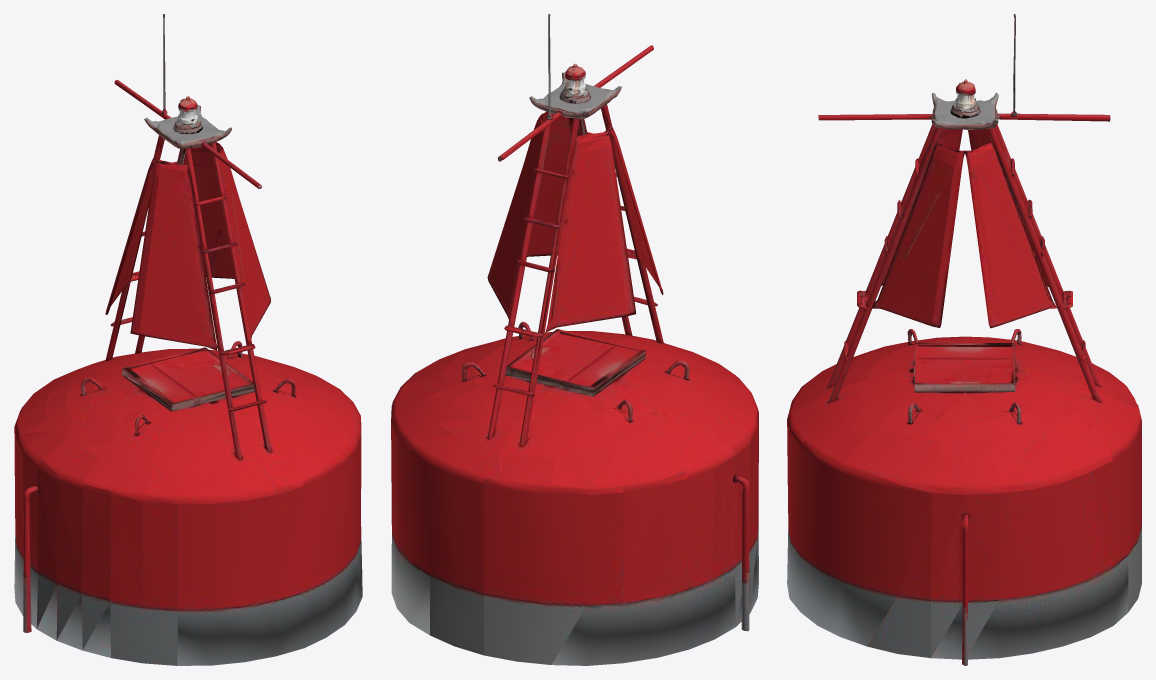
File: buoy2.glb
The picture shows the model from 3 angles, left to right: view 1: azimuth 30°, elevation 25°; view 2: azimuth 150°, elevation 25°; view 3: azimuth 270°, elevation 25°; orthographic projection. The views are drawn at different scales.
Visible parts, largest first — view 1: mesh_node; view 2: mesh_node; view 3: mesh_node.
Boxes of the visible parts, box(x1,y1,x2,y2) form: mesh_node: box(14, 14, 362, 665); mesh_node: box(391, 14, 758, 665); mesh_node: box(787, 14, 1141, 665).
Bounding box in the file's own units: 0.6152 × 1 × 0.5645.
Materials: 1 (1 with a texture image).
